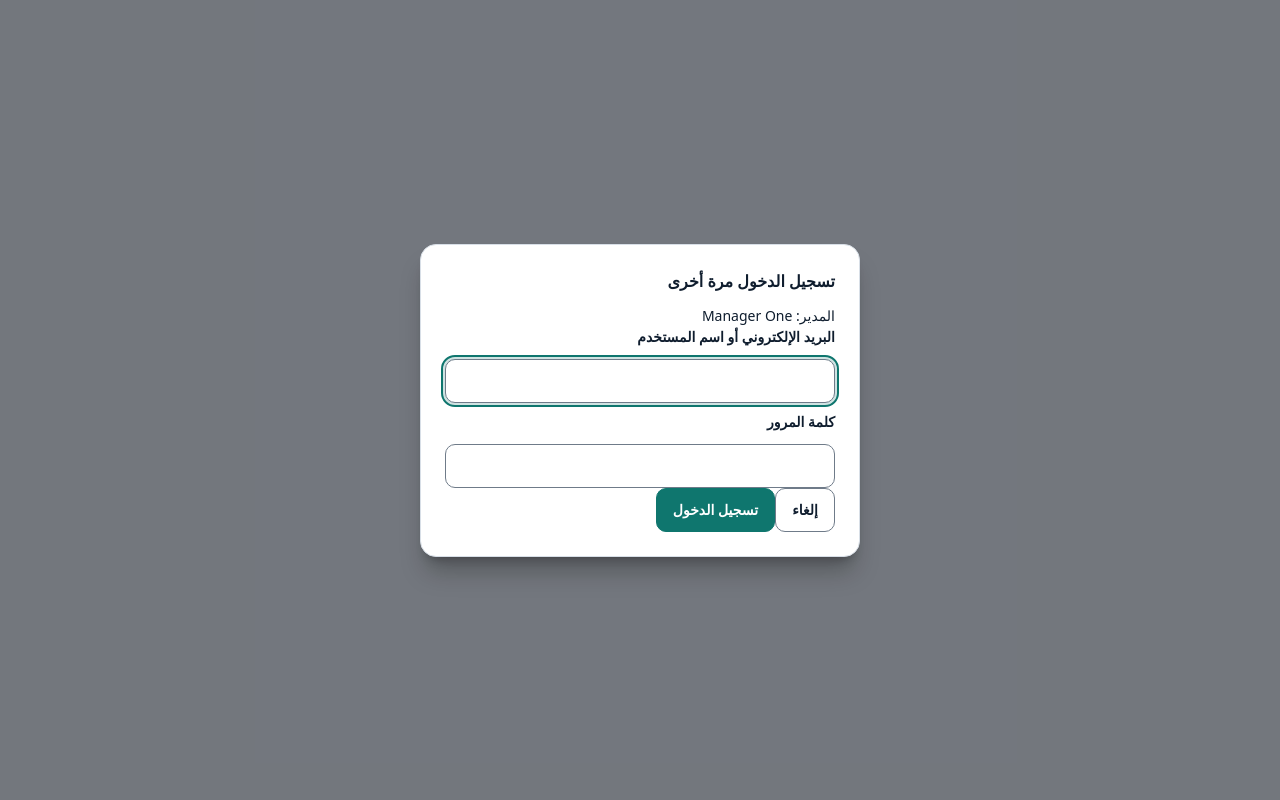
Test case: RT-358 ReauthDialog › a invalid_input refusal shows the sign-in copy, clears the password and stays open
The width and height of the screenshot is (1280, 800).
Type "mgr@example.test" into the field with test id "reauth-identifier" at point(640, 380), box left=445, top=358, right=835, bottom=402
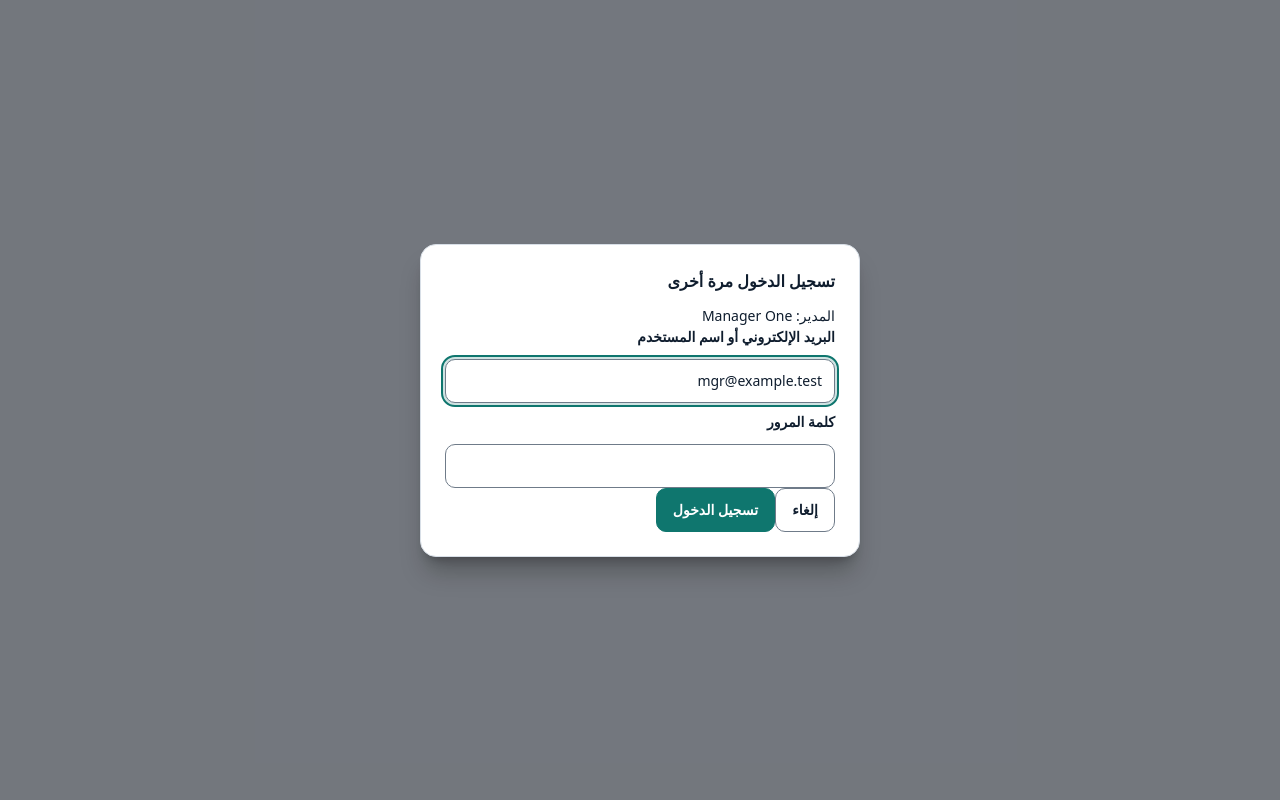
Type "wrong" into the password field with test id "reauth-password" at point(640, 466), box left=445, top=444, right=835, bottom=488
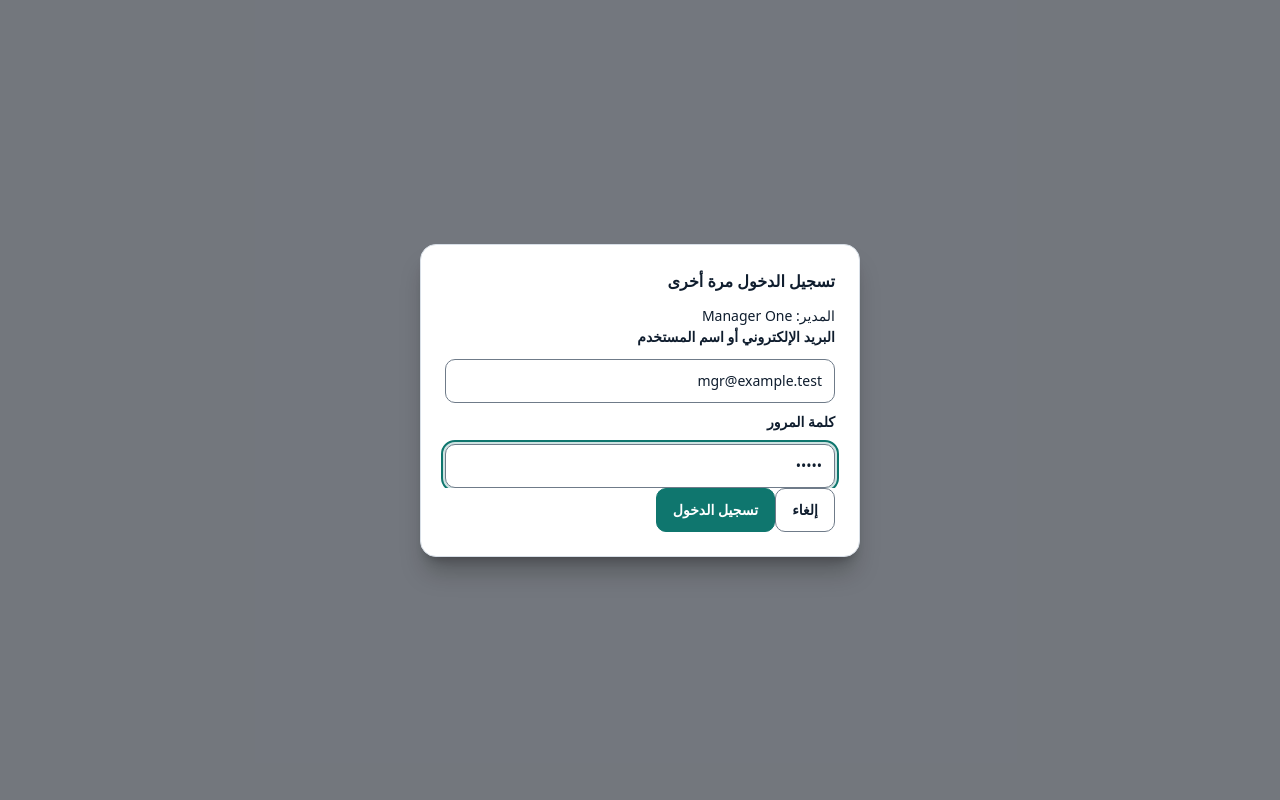
Click the button "تسجيل الدخول" at point(716, 510), box left=656, top=488, right=775, bottom=532
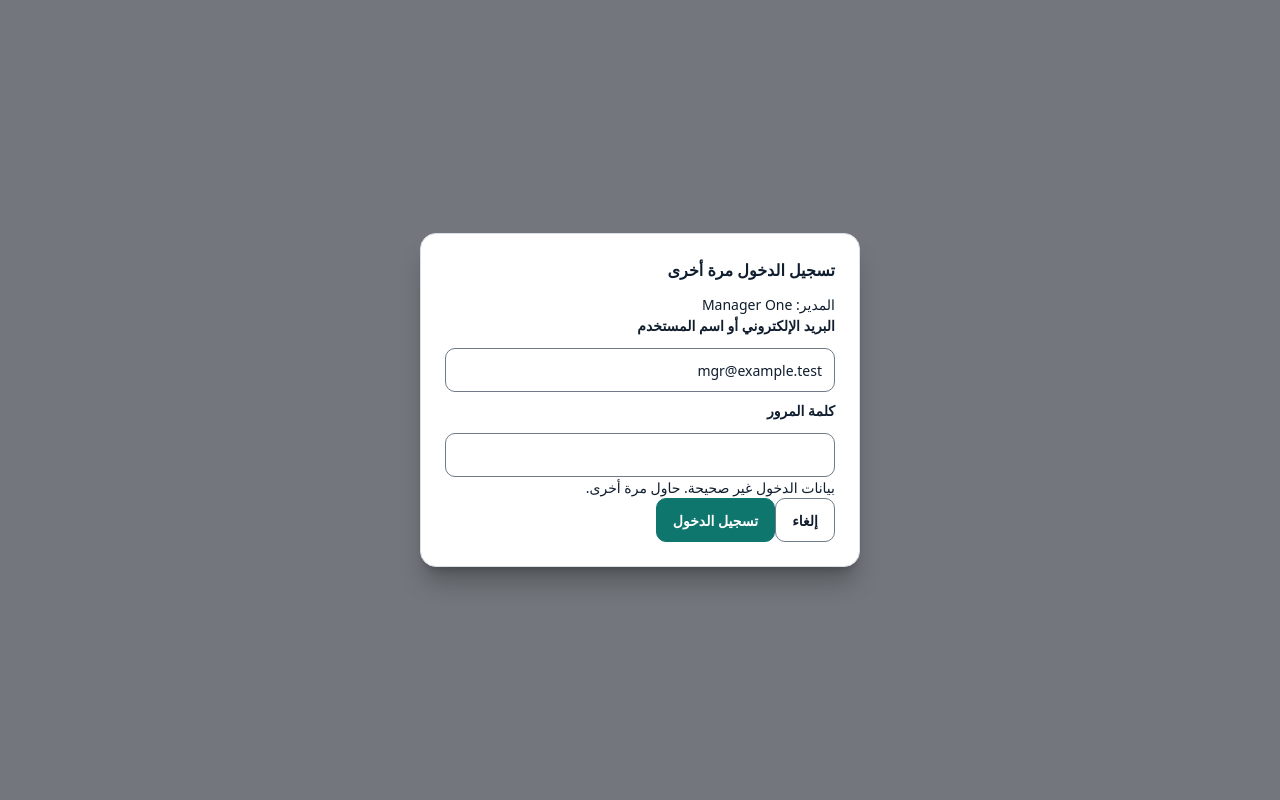
Check: the dialog is shown, box left=420, top=233, right=860, bottom=567
Check: the message with test id "reauth-refusal" reads "بيانات الدخول غير صحيحة. حاول مرة أخرى.", box left=586, top=478, right=835, bottom=497
Check: the password field with test id "reauth-password" is empty, box left=445, top=433, right=835, bottom=477
